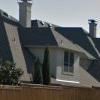Chimney: (83, 15, 100, 45)
